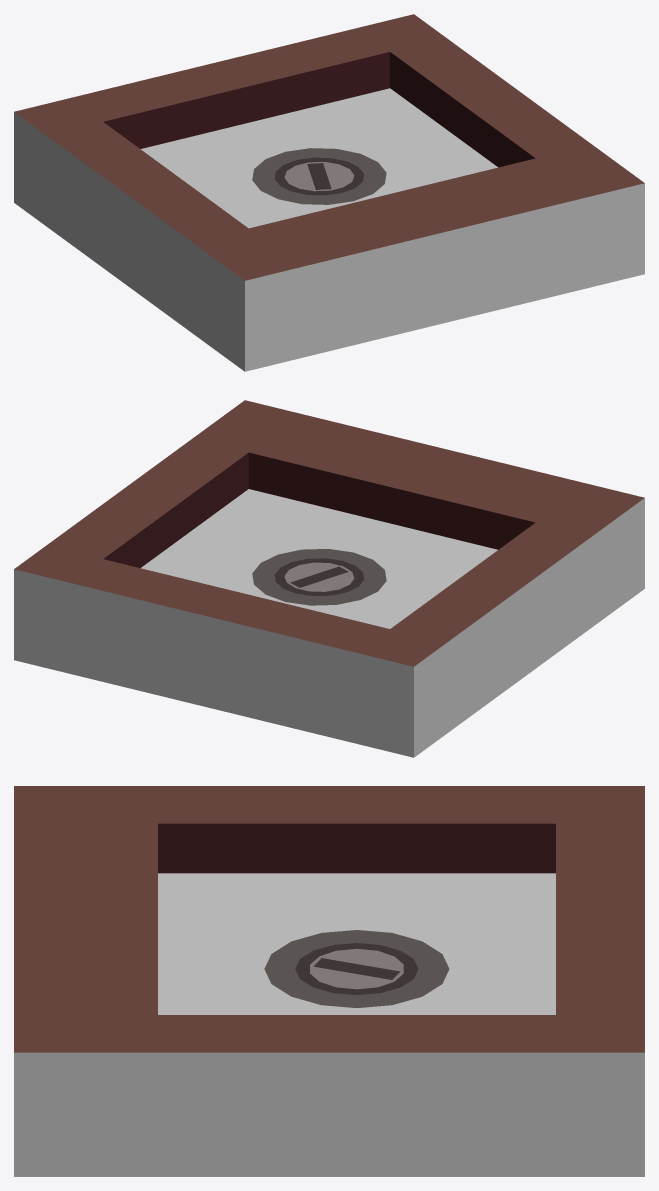
Rendered from vce_tap_deep.obj.
3 renders of one model, top to bottom at view 1: azimuth 30°, elevation 25°; view 2: azimuth 150°, elevation 25°; view 3: azimuth 270°, elevation 25°, orthographic. The views are drawn at different scales.
Bounding box in the file's own units: 0.92 × 0.2 × 0.92.
